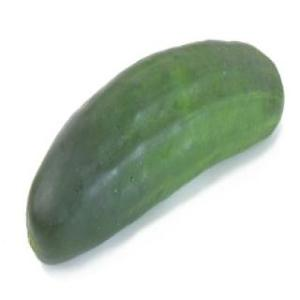cucumber: (25, 38, 286, 268)
